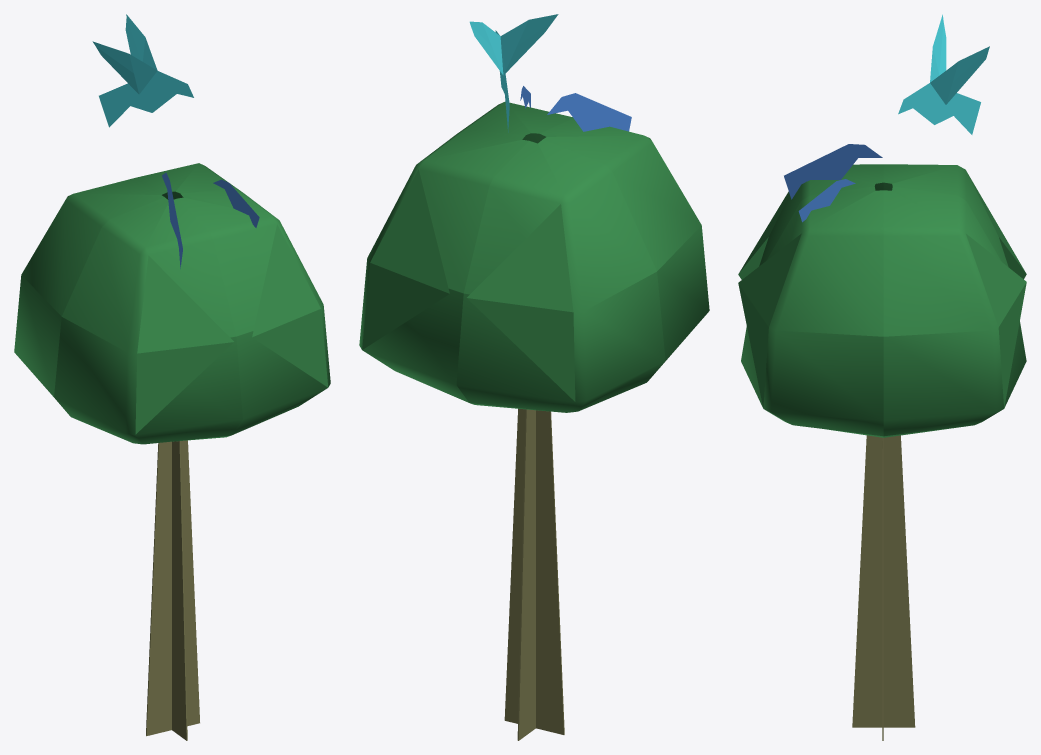
The model's file is TreeSquare_Big_BIRD.fbx.
The picture shows the model from 3 angles, left to right: view 1: azimuth 30°, elevation 25°; view 2: azimuth 150°, elevation 25°; view 3: azimuth 270°, elevation 25°; orthographic projection. The views are drawn at different scales.
Visible parts, largest first — view 1: TREE_BIG_SQUARE, Plane, Plane.001, Plane.004; view 2: TREE_BIG_SQUARE, Plane, Plane.004; view 3: TREE_BIG_SQUARE, Plane, Plane.004, Plane.001.
Boxes of the visible parts, x1,y1,x2,y2 form: TREE_BIG_SQUARE: (14,163,330,740); Plane: (92,14,193,127); Plane.001: (213,179,259,227); Plane.004: (162,172,182,268); TREE_BIG_SQUARE: (359,102,709,740); Plane: (469,14,558,132); Plane.004: (547,93,631,131); TREE_BIG_SQUARE: (738,164,1026,740); Plane: (898,14,989,134); Plane.004: (784,144,882,199); Plane.001: (798,179,855,222).
Bounding box in the file's own units: 761 × 2083 × 792.
